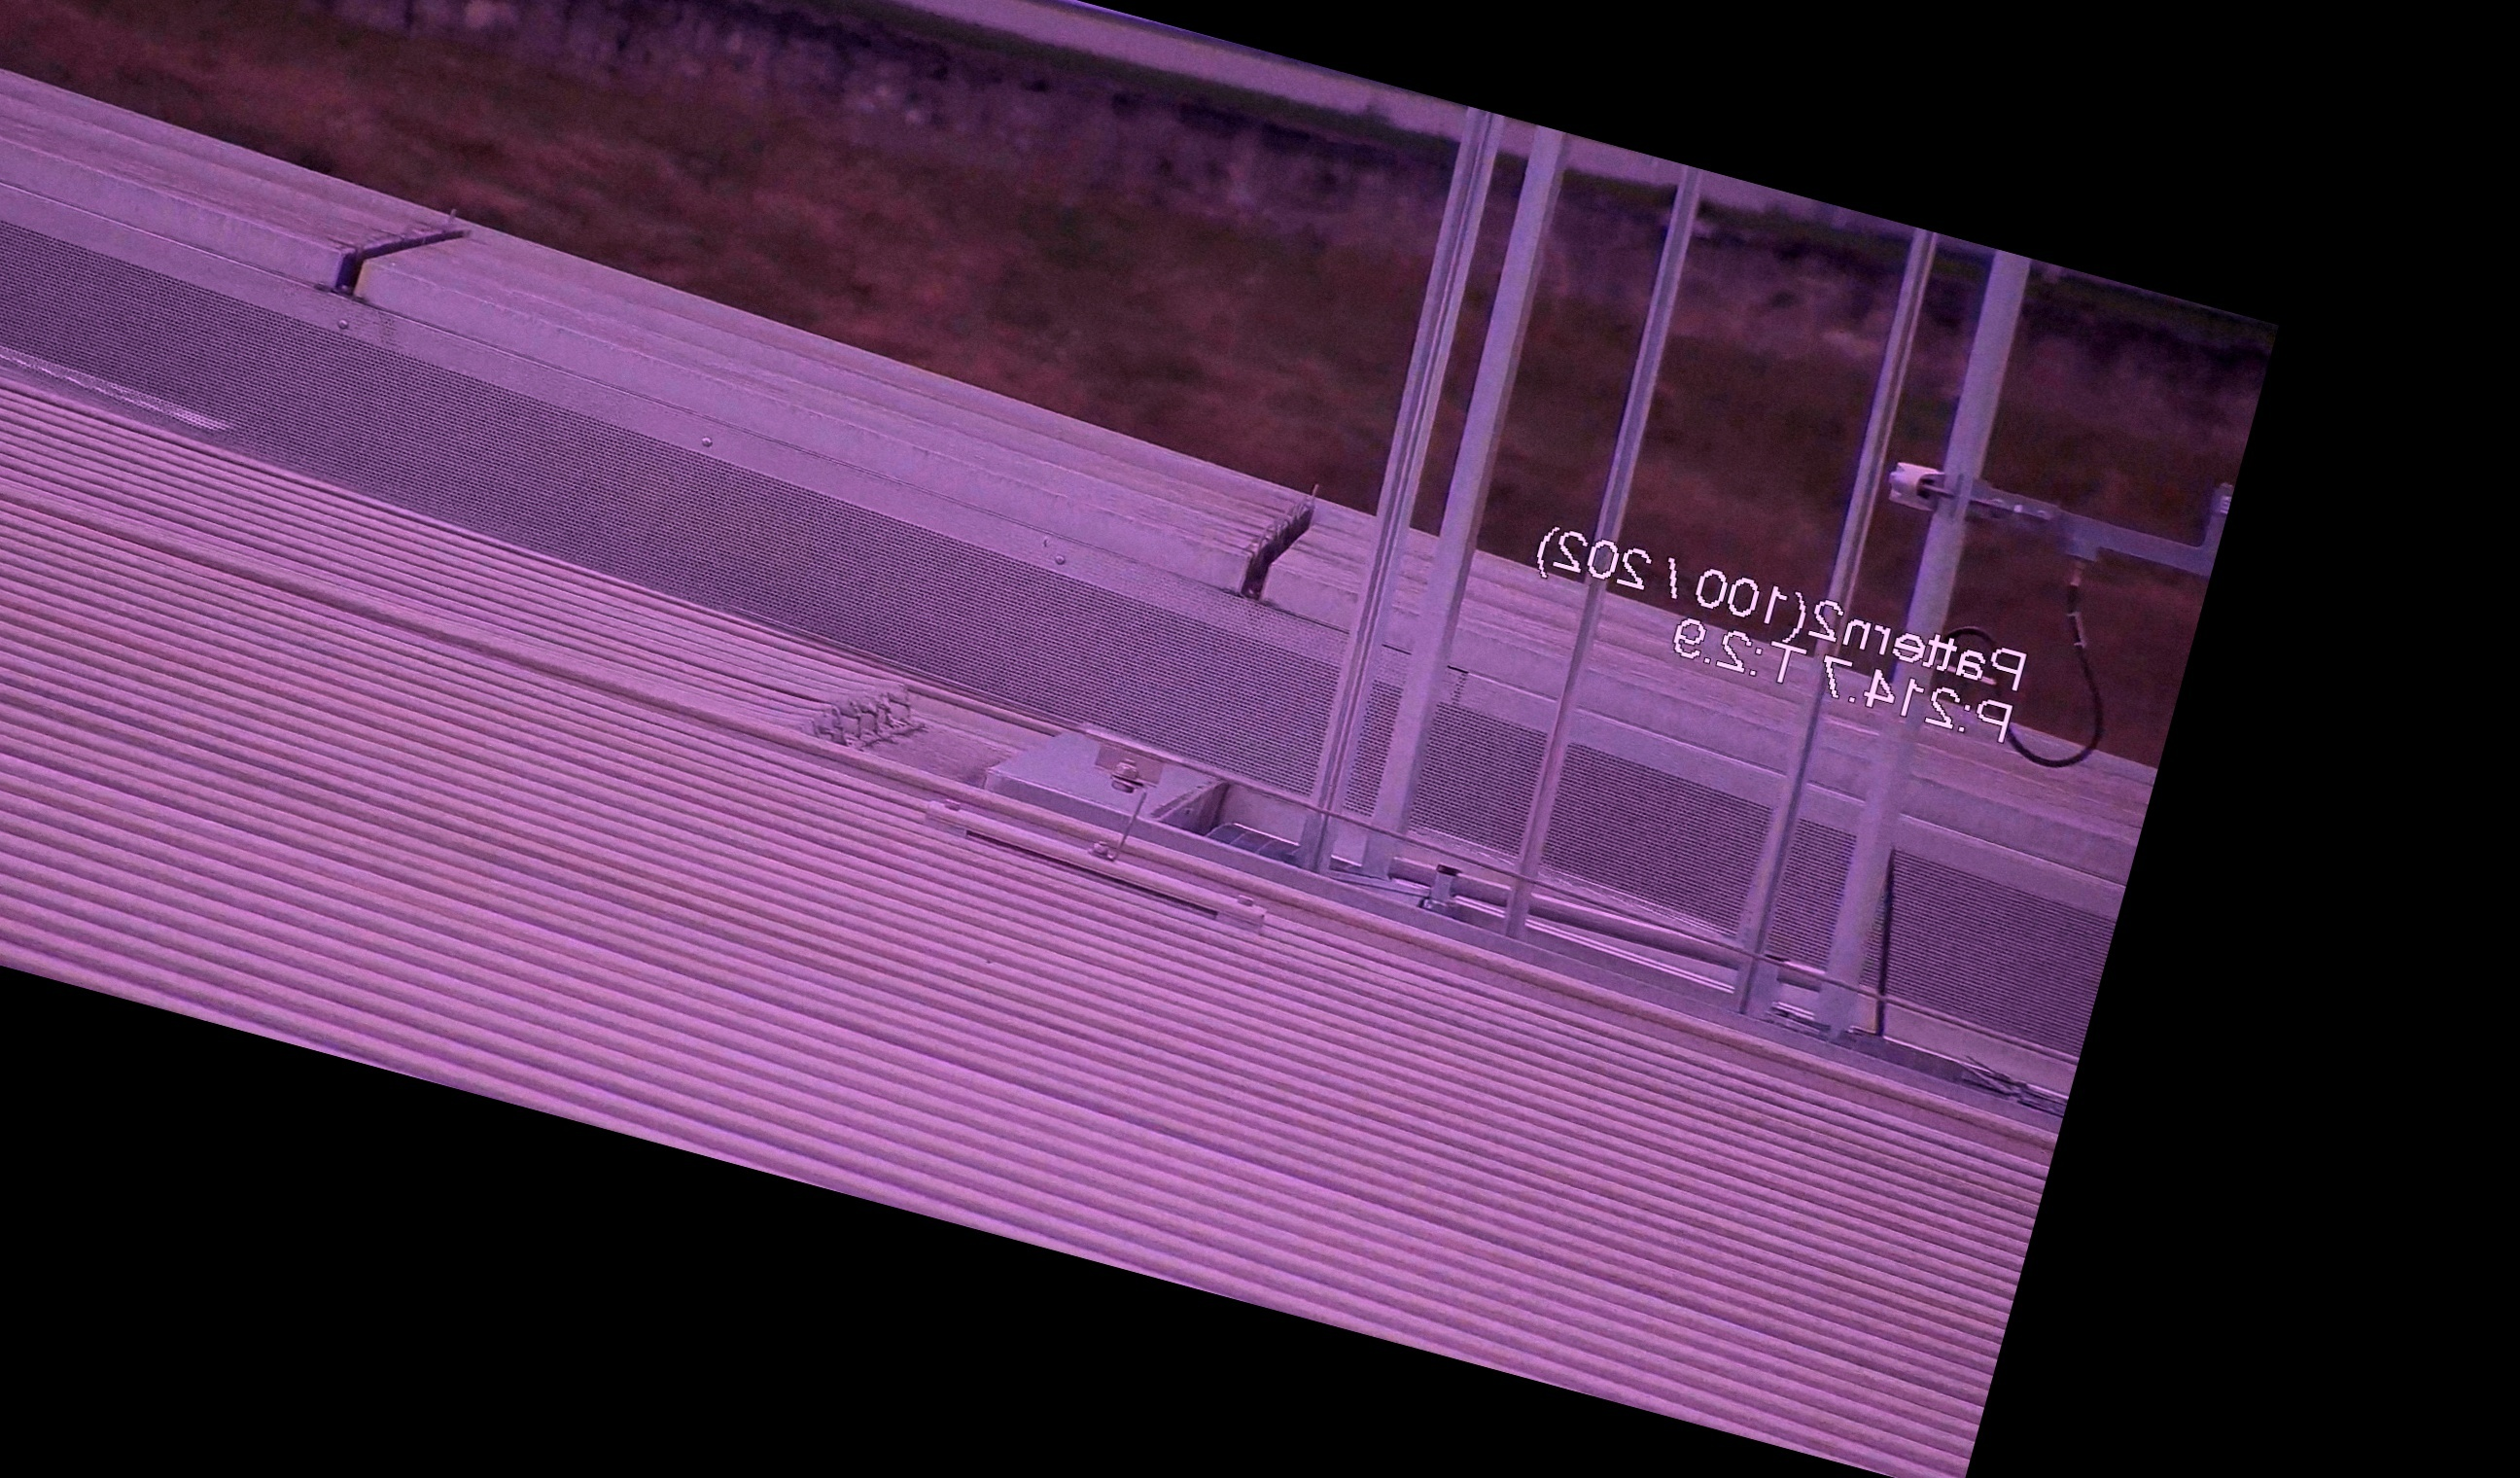Other: (1226, 473, 1349, 621)
